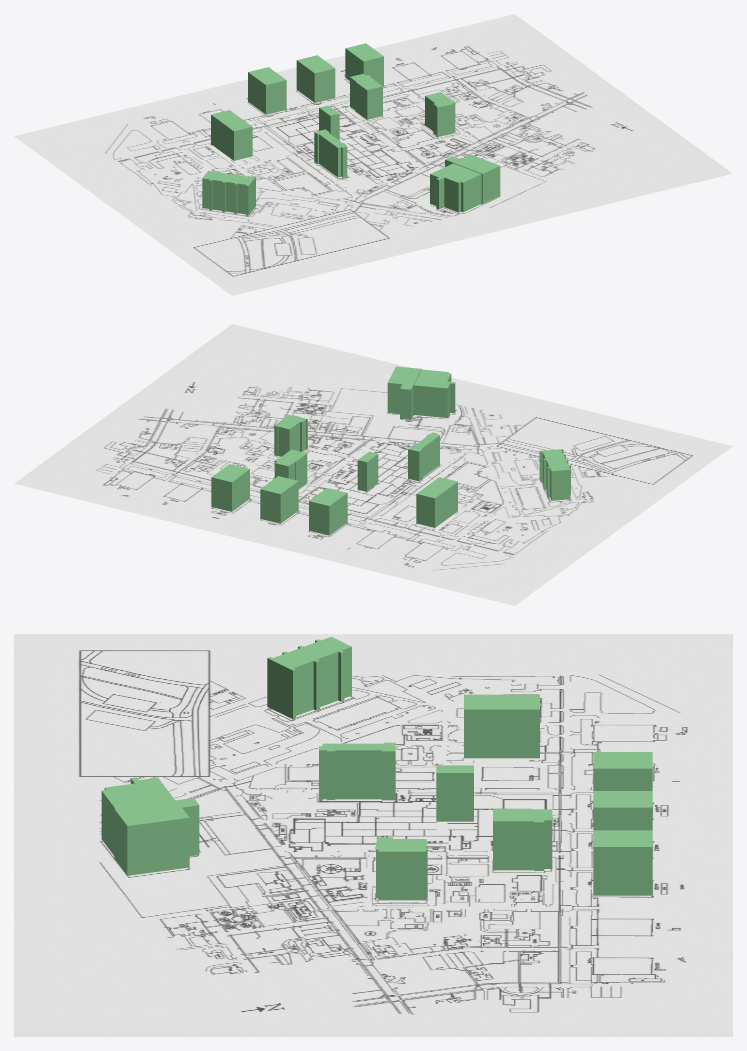
Rendered from campus.glb.
3 views of the same model, one above another, from view 1: azimuth 30°, elevation 25°; view 2: azimuth 150°, elevation 25°; view 3: azimuth 270°, elevation 25° (orthographic). The views are drawn at different scales.
Parts seen in each view (by area): view 1: floor-map, bldg-1700__HIIT, bldg-1217__HIIT, bldg-22__HIT, bldg-44__HIIT, bldg-43__HIIT, bldg-1562__HIIT, bldg-64__HIIT, bldg-45__HIIT, bldg-340__HIIT, bldg-17002__HIIT, bldg-00__HIT; view 2: floor-map, bldg-1700__HIIT, bldg-22__HIT, bldg-45__HIIT, bldg-44__HIIT, bldg-43__HIIT, bldg-1217__HIIT, bldg-17002__HIIT, bldg-340__HIIT, bldg-64__HIIT, bldg-1562__HIIT, bldg-00__HIT; view 3: floor-map, bldg-17002__HIIT, bldg-1217__HIIT, bldg-22__HIT, bldg-64__HIIT, bldg-45__HIIT, bldg-1562__HIIT, bldg-340__HIIT, bldg-44__HIIT, bldg-43__HIIT, bldg-1700__HIIT, bldg-00__HIT.
Part boxes in pixels (x1=…): floor-map: x1=14, y1=14, x2=732, y2=295; bldg-1700__HIIT: x1=430, y1=163, x2=481, y2=212; bldg-1217__HIIT: x1=202, y1=171, x2=255, y2=215; bldg-22__HIT: x1=211, y1=110, x2=252, y2=160; bldg-44__HIIT: x1=296, y1=55, x2=335, y2=102; bldg-43__HIIT: x1=248, y1=67, x2=286, y2=114; bldg-1562__HIIT: x1=350, y1=73, x2=382, y2=119; bldg-64__HIIT: x1=314, y1=129, x2=347, y2=177; bldg-45__HIIT: x1=345, y1=43, x2=383, y2=86; bldg-340__HIIT: x1=425, y1=92, x2=455, y2=137; bldg-17002__HIIT: x1=445, y1=154, x2=500, y2=203; bldg-00__HIT: x1=319, y1=105, x2=339, y2=140; floor-map: x1=14, y1=324, x2=732, y2=605; bldg-1700__HIIT: x1=413, y1=369, x2=455, y2=417; bldg-22__HIT: x1=416, y1=477, x2=457, y2=527; bldg-45__HIIT: x1=211, y1=464, x2=249, y2=511; bldg-44__HIIT: x1=260, y1=476, x2=298, y2=523; bldg-43__HIIT: x1=309, y1=488, x2=347, y2=535; bldg-1217__HIIT: x1=539, y1=449, x2=570, y2=500; bldg-17002__HIIT: x1=387, y1=366, x2=421, y2=419; bldg-340__HIIT: x1=274, y1=415, x2=307, y2=456; bldg-64__HIIT: x1=408, y1=432, x2=439, y2=481; bldg-1562__HIIT: x1=274, y1=449, x2=307, y2=488; bldg-00__HIT: x1=357, y1=451, x2=378, y2=491; floor-map: x1=14, y1=634, x2=732, y2=1036; bldg-17002__HIIT: x1=114, y1=798, x2=199, y2=875; bldg-1217__HIIT: x1=267, y1=636, x2=351, y2=719; bldg-22__HIT: x1=464, y1=694, x2=539, y2=758; bldg-64__HIIT: x1=319, y1=742, x2=395, y2=800; bldg-45__HIIT: x1=593, y1=830, x2=652, y2=895; bldg-1562__HIIT: x1=493, y1=808, x2=552, y2=870; bldg-340__HIIT: x1=376, y1=836, x2=427, y2=900; bldg-44__HIIT: x1=593, y1=791, x2=652, y2=830; bldg-43__HIIT: x1=593, y1=752, x2=652, y2=790; bldg-1700__HIIT: x1=101, y1=777, x2=174, y2=855; bldg-00__HIT: x1=436, y1=765, x2=473, y2=821.
Bounding box in the file's own units: 700 × 41.62 × 528.
2 materials, 1 textured.
